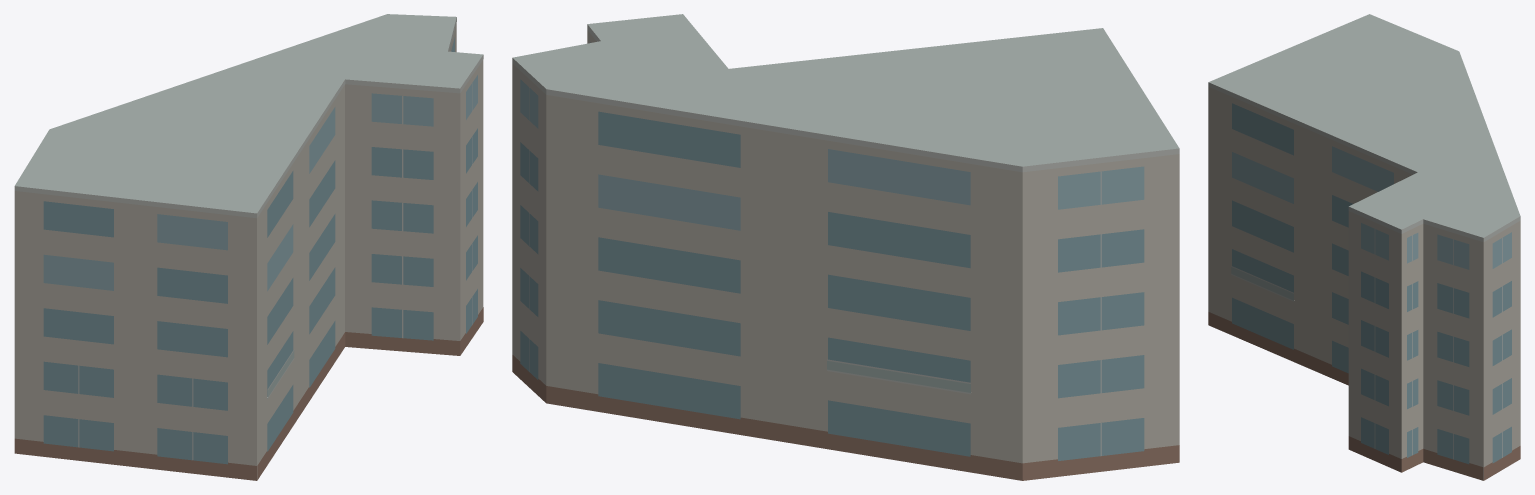
The model's file is survey-upis-32531180.glb.
The picture shows the model from 3 angles, left to right: view 1: azimuth 30°, elevation 25°; view 2: azimuth 150°, elevation 25°; view 3: azimuth 270°, elevation 25°; orthographic projection. The views are drawn at different scales.
Parts seen in each view (by area): view 1: survey-upis-32531180.tmp; view 2: survey-upis-32531180.tmp; view 3: survey-upis-32531180.tmp.
Boxes of the visible parts, bbox=[...] form: survey-upis-32531180.tmp: bbox=[14, 14, 483, 480]; survey-upis-32531180.tmp: bbox=[512, 14, 1179, 480]; survey-upis-32531180.tmp: bbox=[1208, 14, 1520, 480].
Size of the model in its own units: 26.79 by 13.55 by 15.79.
